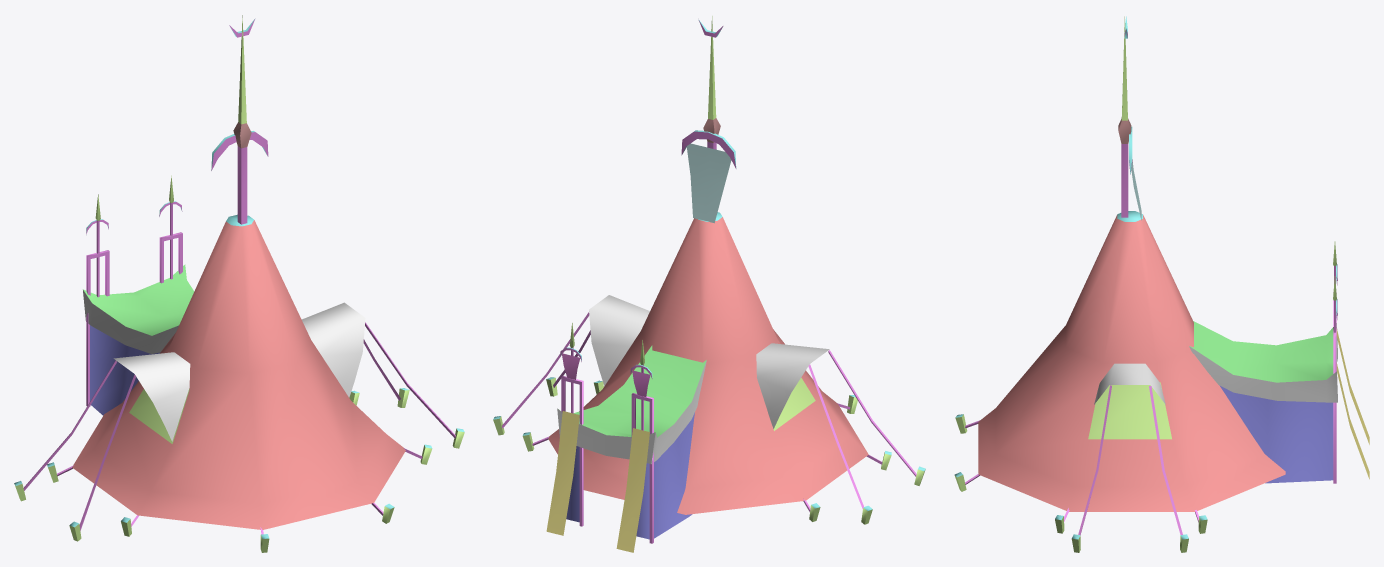
File: darkelf_tent__darkelf_tent_sub.gltf
3 renders of one model, left to right at view 1: azimuth 30°, elevation 25°; view 2: azimuth 150°, elevation 25°; view 3: azimuth 270°, elevation 25°, orthographic. The views are drawn at different scales.
Parts seen in each view (by area): view 1: darkelf_tent_sub; view 2: darkelf_tent_sub; view 3: darkelf_tent_sub.
Boxes of the visible parts, x1,y1,x2,y2 form: darkelf_tent_sub: (14, 15, 464, 552); darkelf_tent_sub: (493, 16, 925, 552); darkelf_tent_sub: (954, 16, 1369, 552).
Size of the model in its own units: 2.9 by 3.25 by 2.73.
